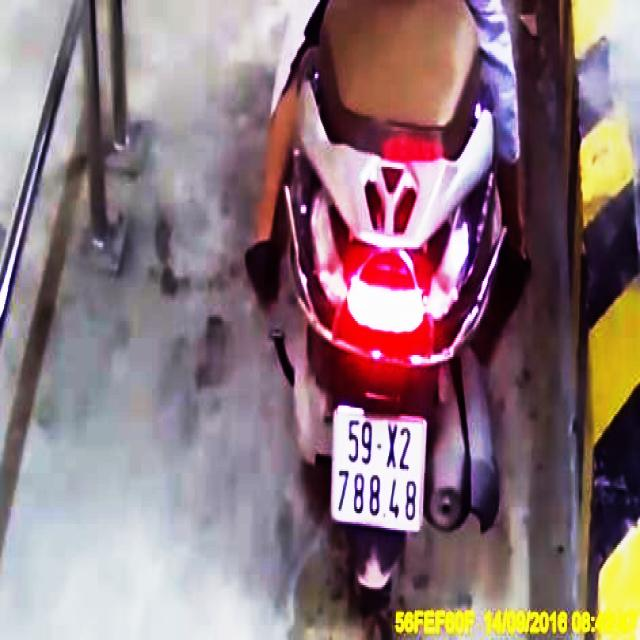license_plate: (334, 410, 425, 532)
